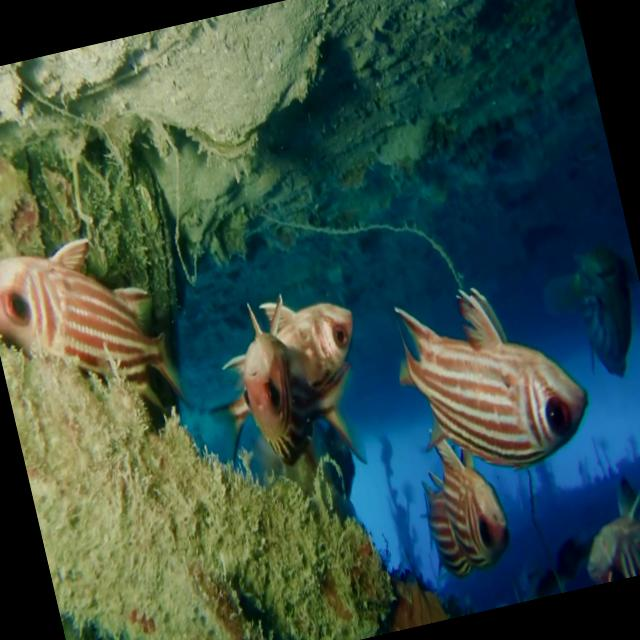Asker Baligi: (380, 264, 602, 494), (187, 276, 388, 498), (0, 219, 191, 449)
